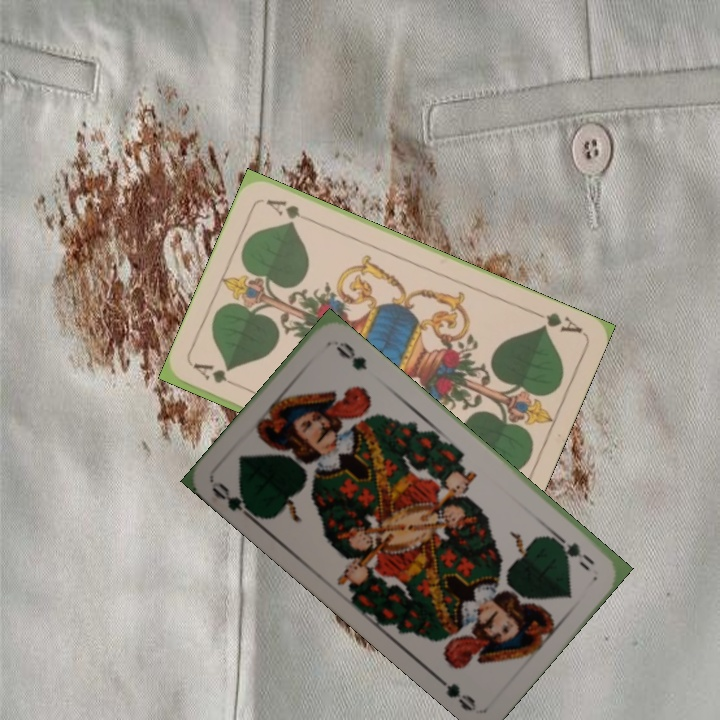GA: (189, 358, 246, 392), (528, 307, 585, 336)
GO: (207, 477, 260, 525), (547, 529, 598, 574)
